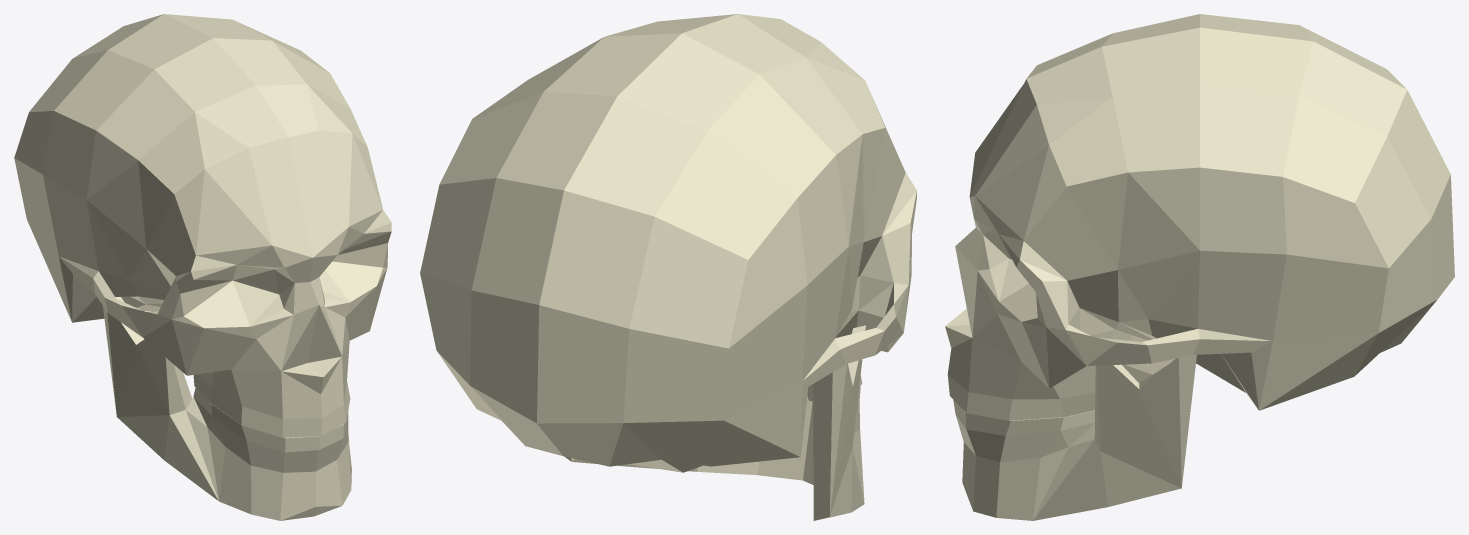
File: Skull.fbx
3 views of the same model, side by side, from view 1: azimuth 30°, elevation 25°; view 2: azimuth 150°, elevation 25°; view 3: azimuth 270°, elevation 25° (orthographic). The views are drawn at different scales.
Visible parts, largest first — view 1: Cube, Cube.001; view 2: Cube, Cube.001; view 3: Cube, Cube.001.
Boxes of the visible parts, bbox=[...] form: Cube: bbox=[14, 14, 391, 437]; Cube.001: bbox=[103, 297, 351, 520]; Cube: bbox=[420, 14, 916, 472]; Cube.001: bbox=[564, 325, 866, 520]; Cube: bbox=[945, 14, 1454, 420]; Cube.001: bbox=[953, 335, 1196, 520].
Bounding box in the file's own units: 136 × 199 × 195.
